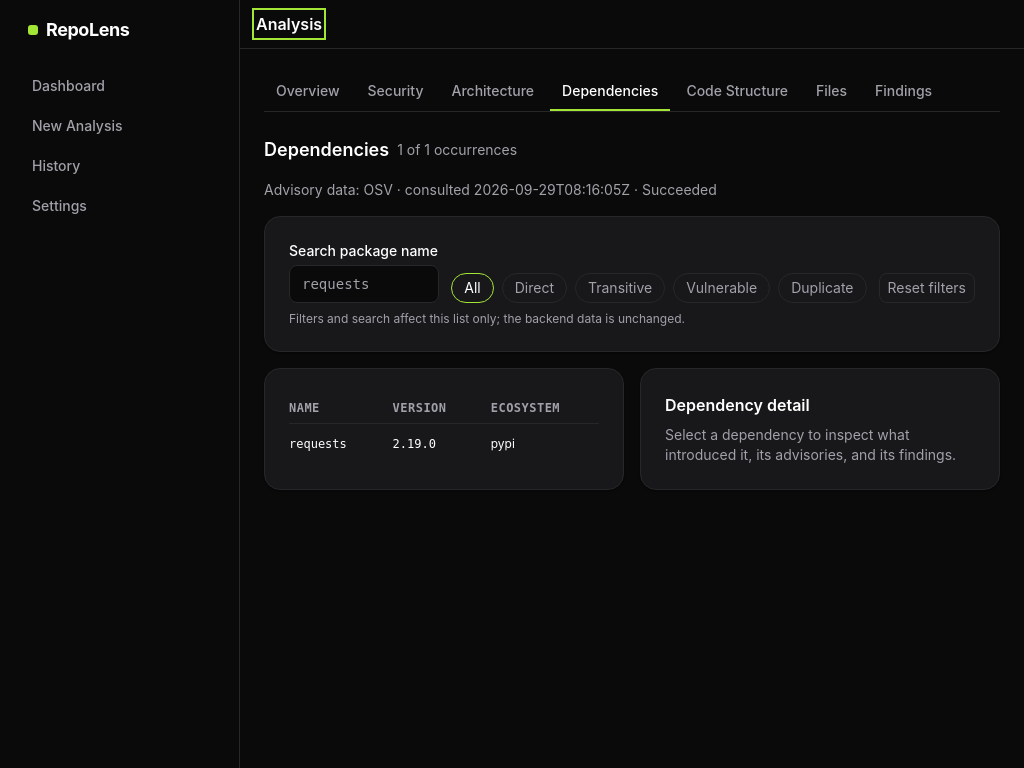
Test: Dependencies page › filters by type, searches by name, and resets via URL state
Expected: the text "requests" is shown, [289,424,393,464]
Click the button "transitive" at [620, 288], box [575,273,665,303]
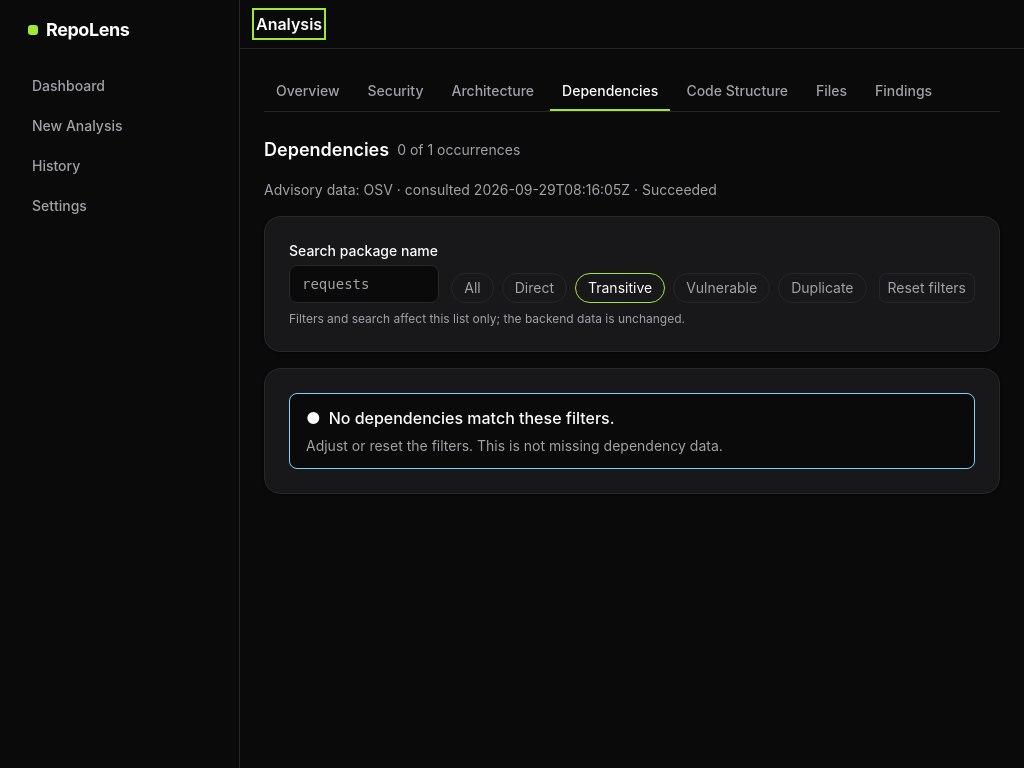
Expected: the text "No dependencies match these filters." is shown, [329,408,614,428]
Click the button "Reset filters" at [927, 288], box [878,273,975,303]
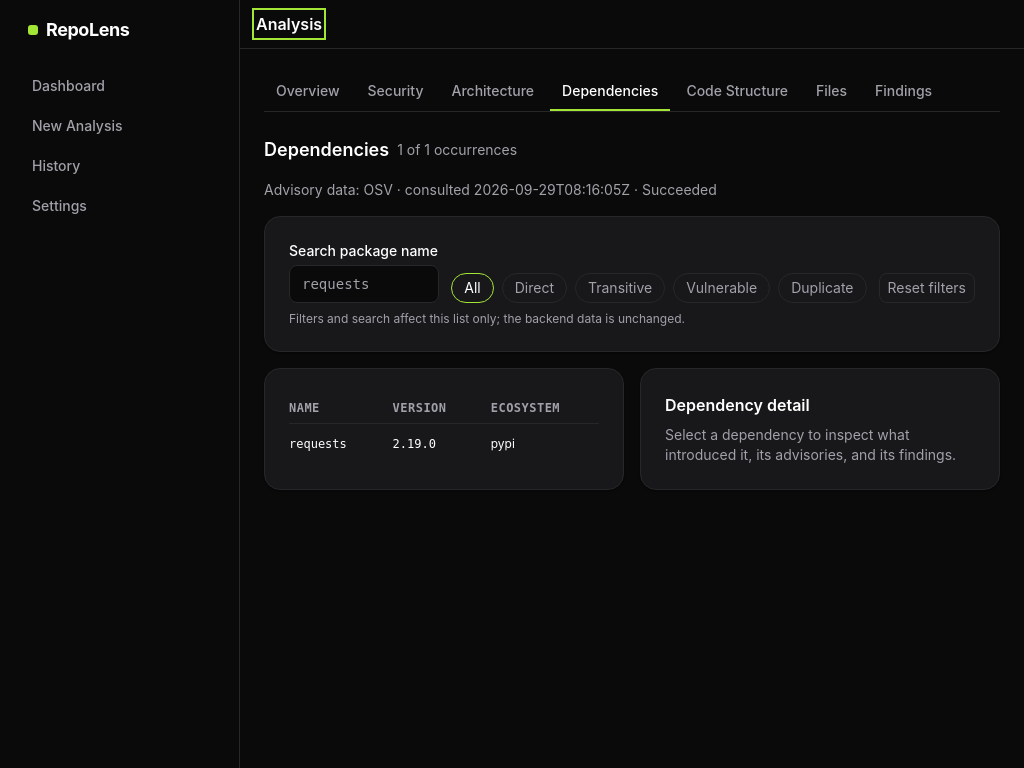
Expected: the text "requests" is shown, [289,424,393,464]
Type "req" into the search field labelled "Search package name" at [364, 284], box [289,265,439,303]
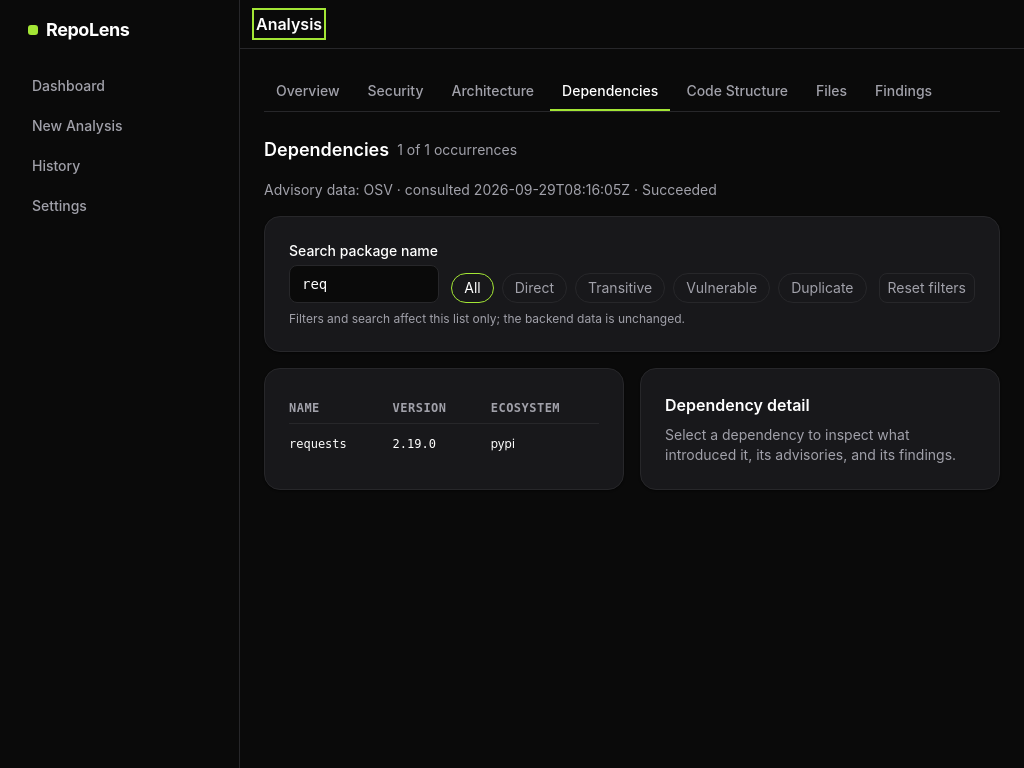
Expected: the text "requests" is shown, [289,424,393,464]
Replace the text in the search field labelled "Search package name" with "zzz" at [364, 284], box [289,265,439,303]
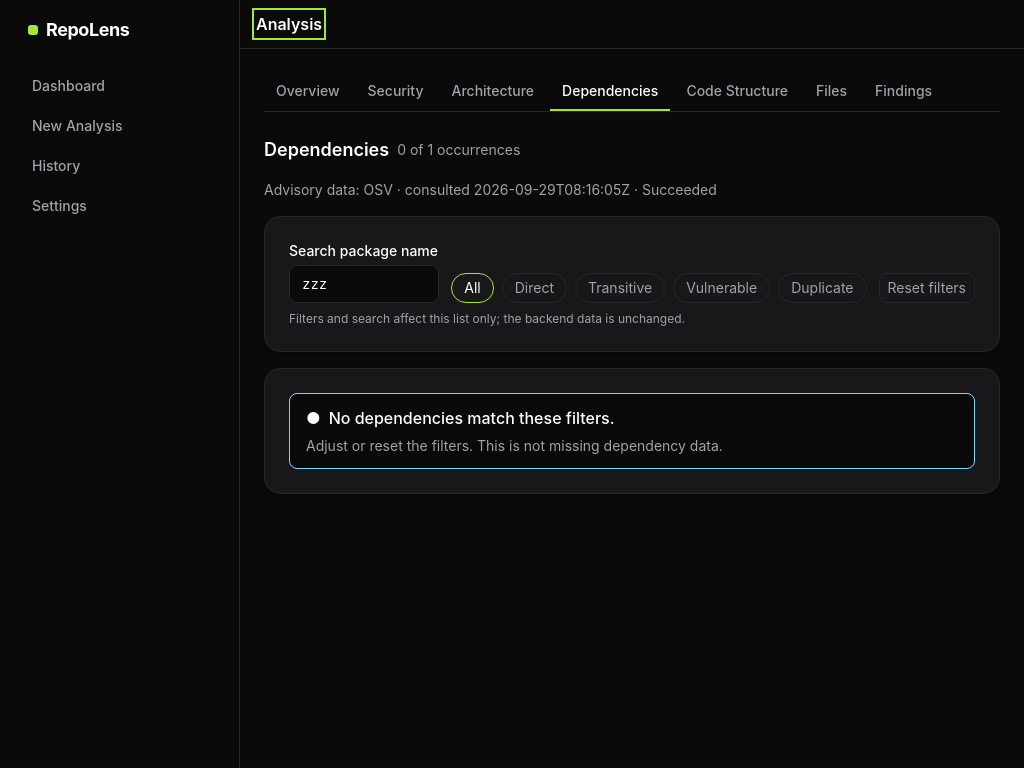
Expected: the text "No dependencies match these filters." is shown, [329,408,614,428]
